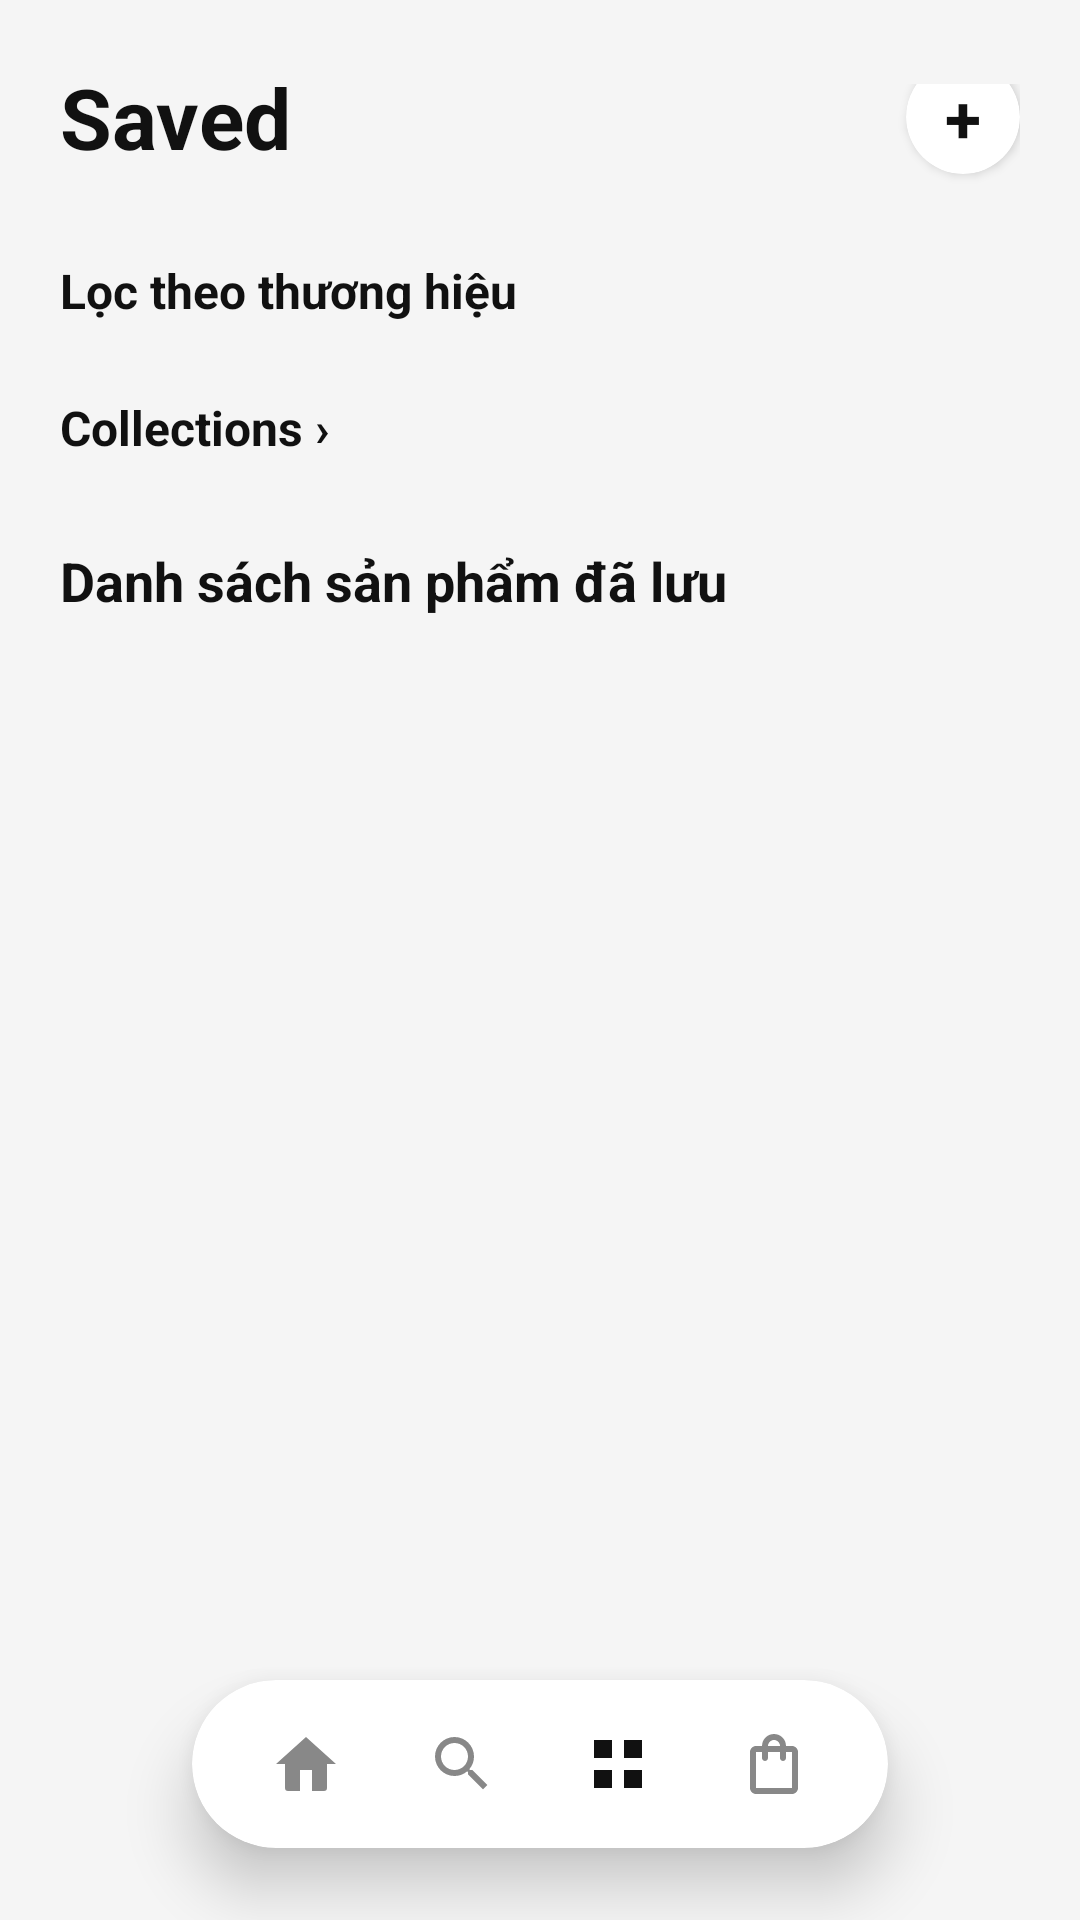

Icons on this 1080*1920 Android screen, each with the point to tap as [x,y]:
Lưới: [618,1764]
Trang chủ: [306,1764]
Tìm kiếm: [461,1763]
Túi xách: [774,1764]
